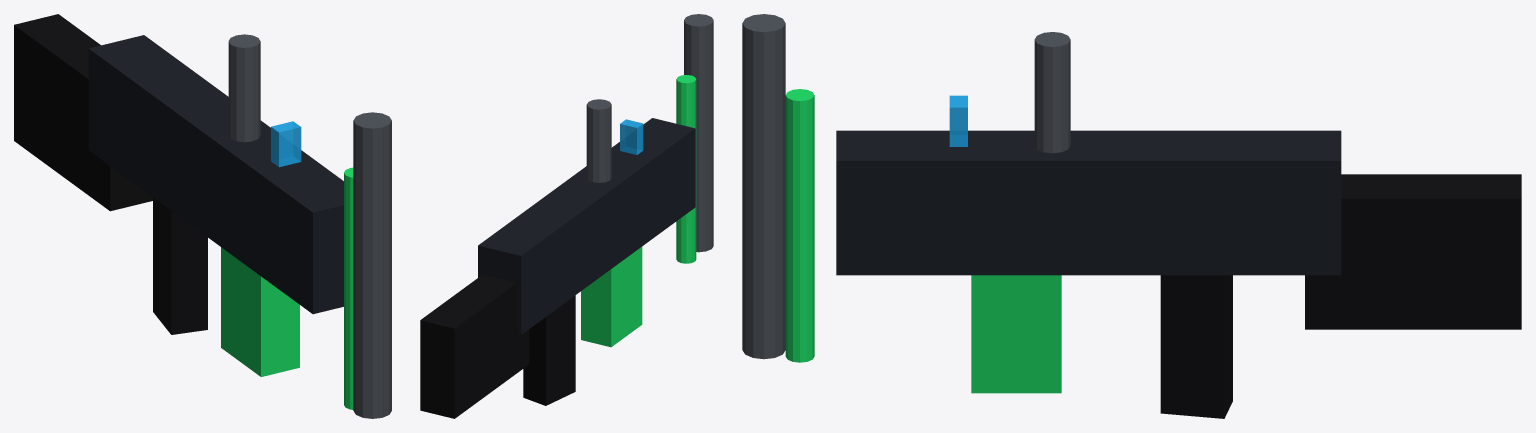
File: plasma_rifle.obj
The picture shows the model from 3 angles, left to right: view 1: azimuth 30°, elevation 25°; view 2: azimuth 150°, elevation 25°; view 3: azimuth 270°, elevation 25°; orthographic projection. The views are drawn at different scales.
Visible parts, largest first — view 1: PlasmaRifle; view 2: PlasmaRifle; view 3: PlasmaRifle.
Boxes of the visible parts, bbox=[...] form: PlasmaRifle: bbox=[14, 14, 391, 418]; PlasmaRifle: bbox=[420, 14, 713, 418]; PlasmaRifle: bbox=[742, 14, 1521, 418].
Bounding box in the file's own units: 0.2 × 1.17 × 2.16.
